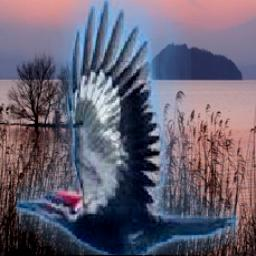Woodpecker: (17, 0, 238, 256)
